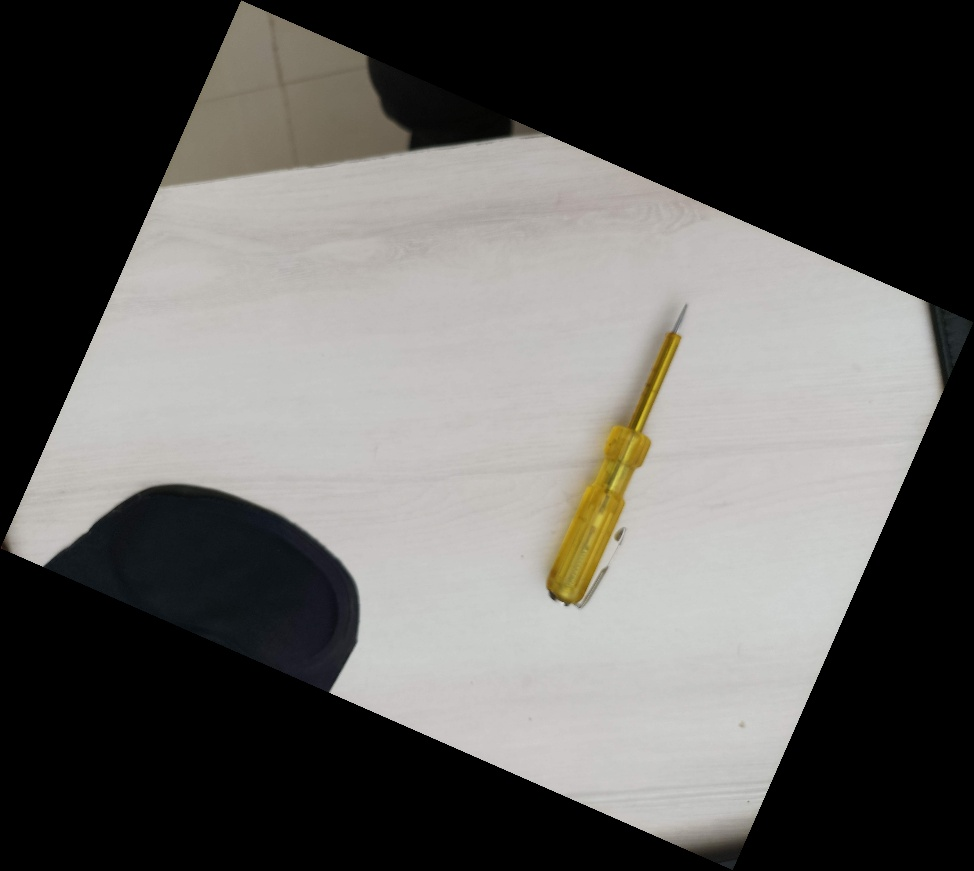screwdriver: (529, 296, 696, 614)
